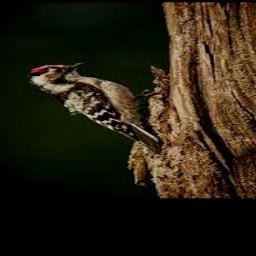Woodpecker: (27, 61, 160, 153)
